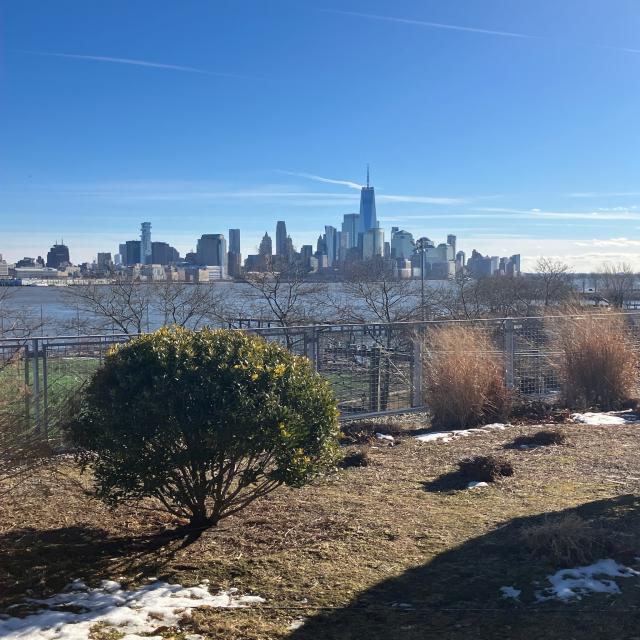WTC: (358, 162, 378, 230)
